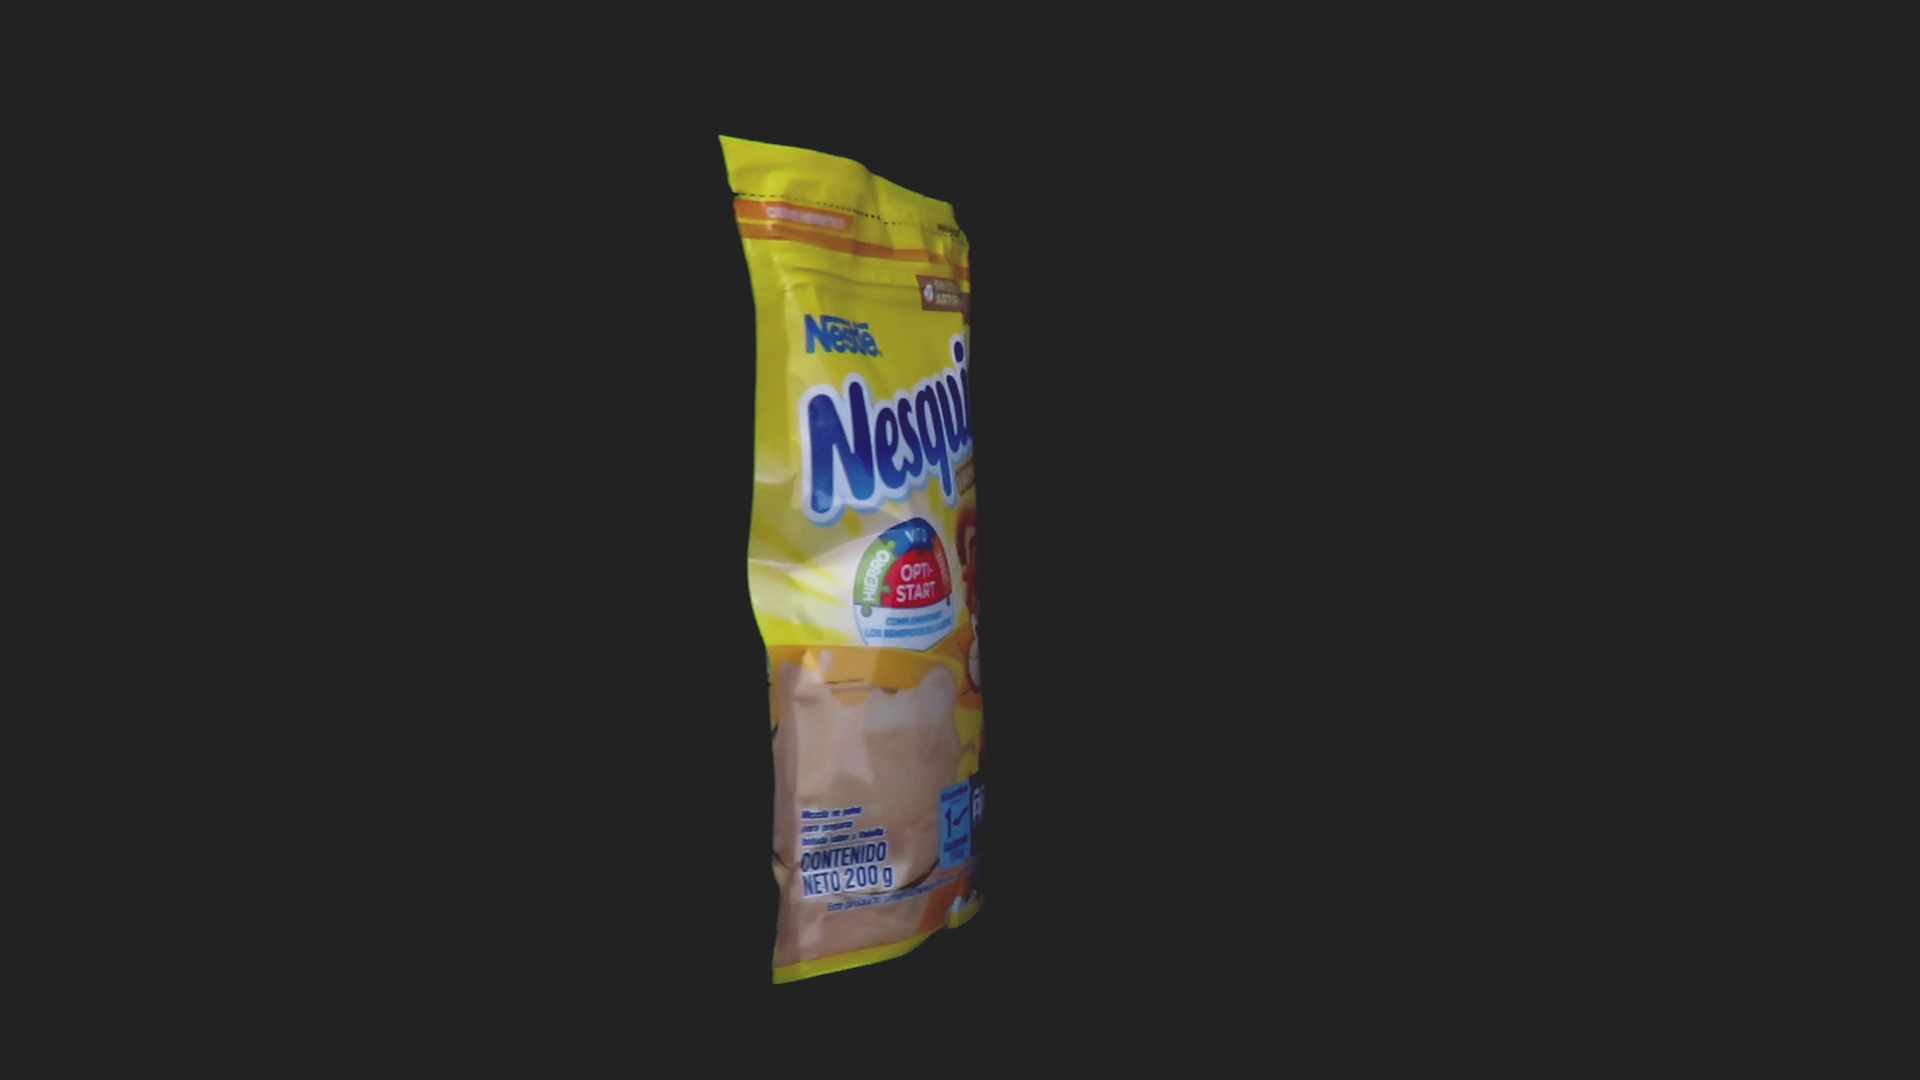COL0170306DYP20000: (713, 131, 986, 992)
